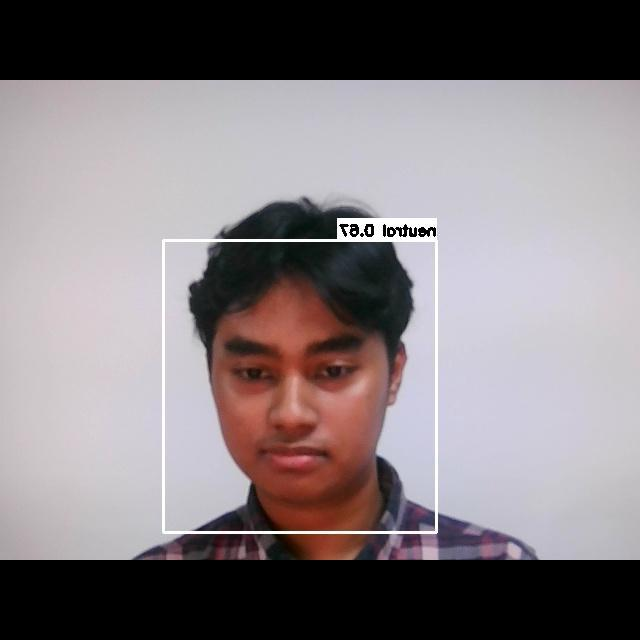Natural: (197, 304, 395, 478)
